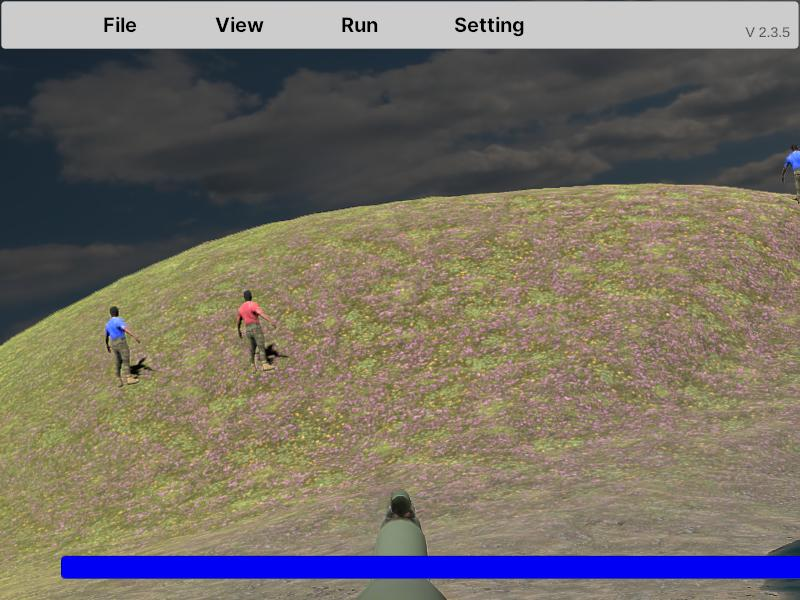Human: (237, 289, 275, 375), (105, 306, 142, 387), (106, 305, 142, 386), (781, 143, 800, 204)
